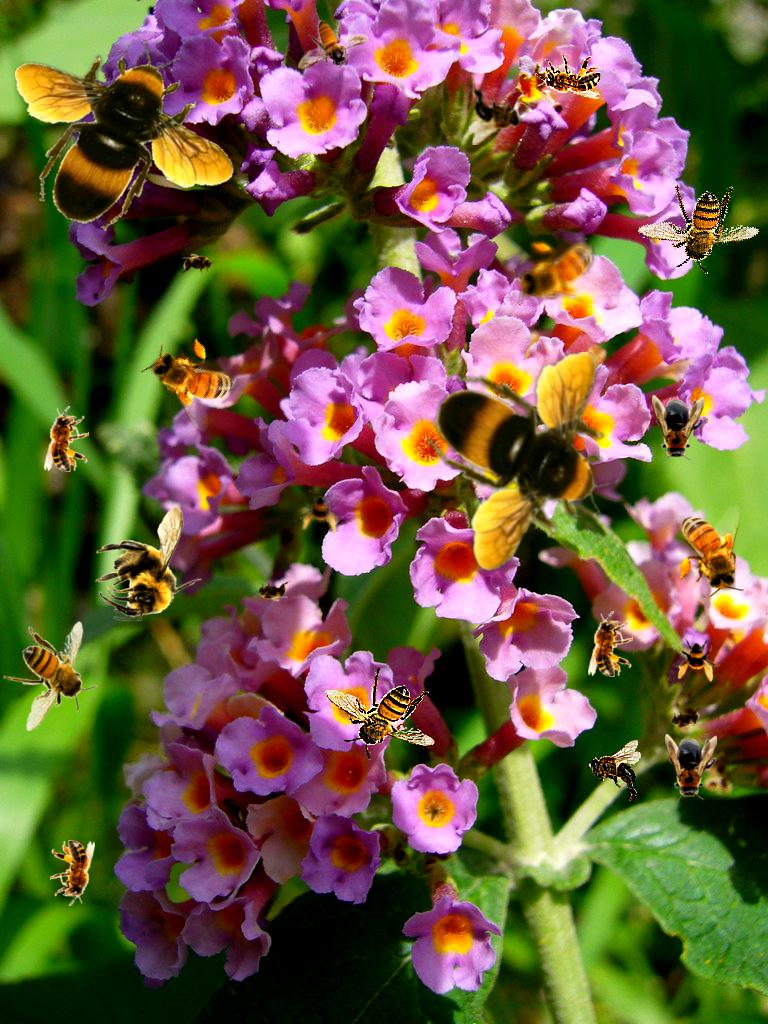Bee: (428, 352, 619, 572), (15, 40, 235, 231), (626, 160, 767, 294), (136, 322, 250, 437), (95, 506, 202, 621), (324, 666, 435, 760), (3, 621, 97, 732), (513, 238, 606, 306), (676, 504, 744, 597), (298, 20, 369, 70), (665, 734, 717, 802), (652, 395, 704, 463), (588, 740, 641, 802), (469, 83, 522, 145), (588, 611, 633, 677), (44, 406, 89, 472), (50, 840, 95, 906), (535, 54, 601, 99), (300, 490, 344, 534), (676, 638, 720, 682), (663, 705, 707, 733), (252, 580, 292, 602), (178, 253, 218, 275)
